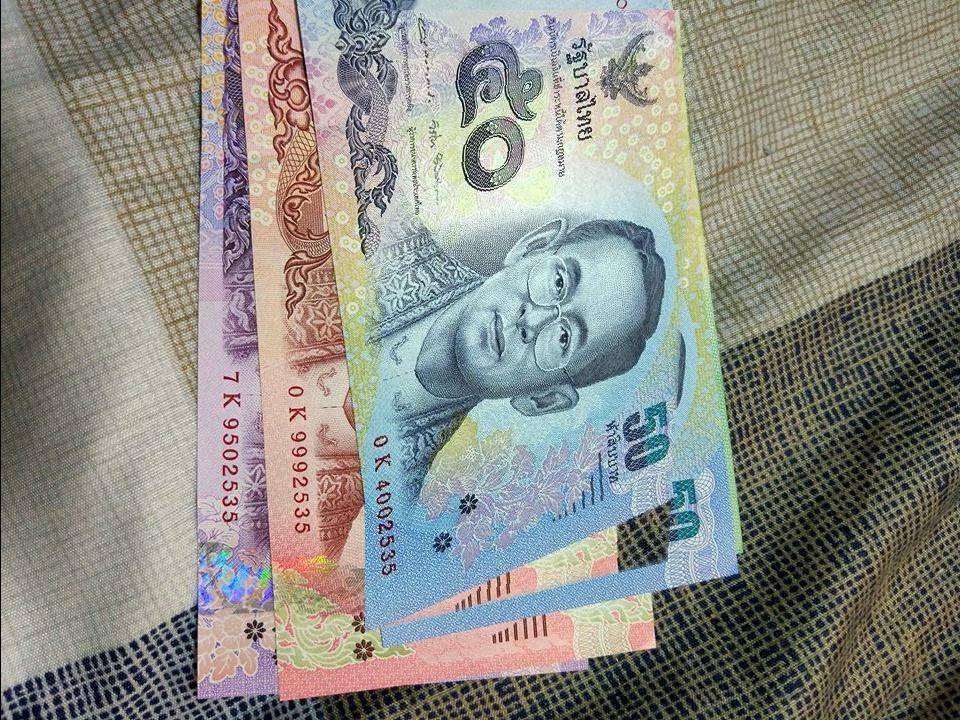50BahtTai: (365, 10, 705, 642)
